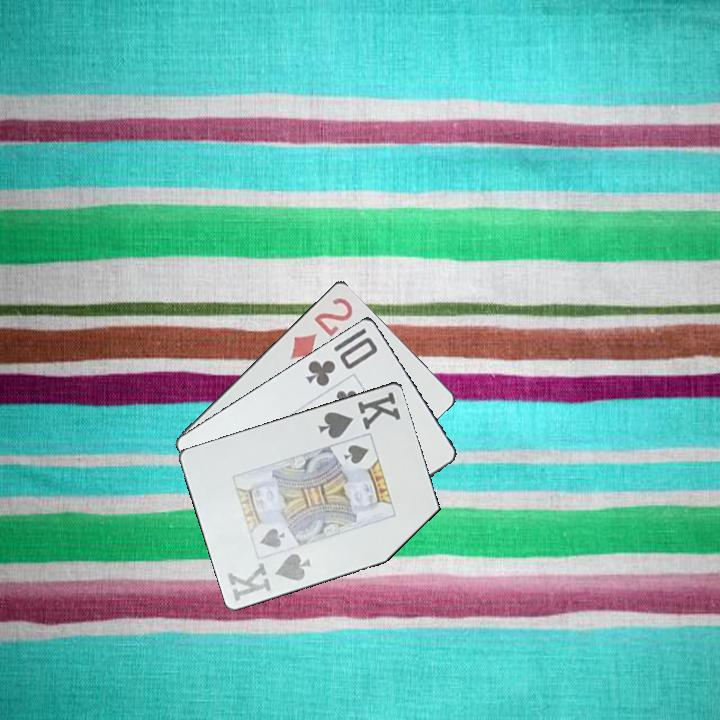2d: (286, 292, 356, 362)
Ks: (224, 549, 313, 604), (314, 388, 404, 441)
Tc: (302, 333, 381, 390)
